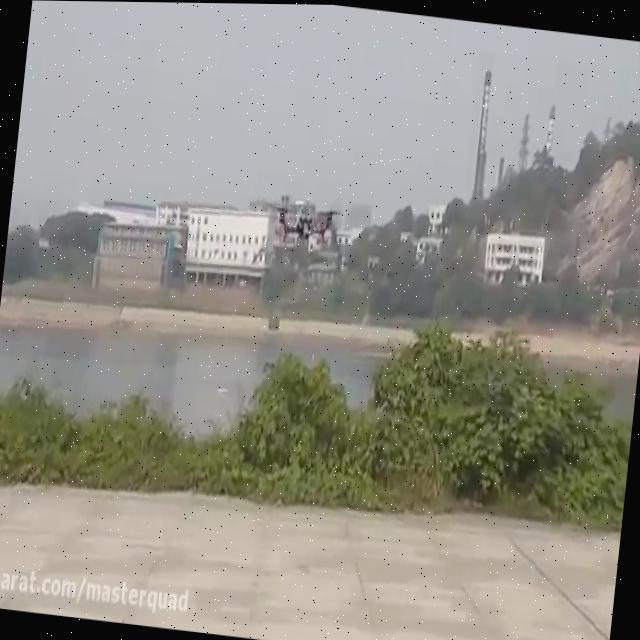drone: (270, 188, 344, 250)
